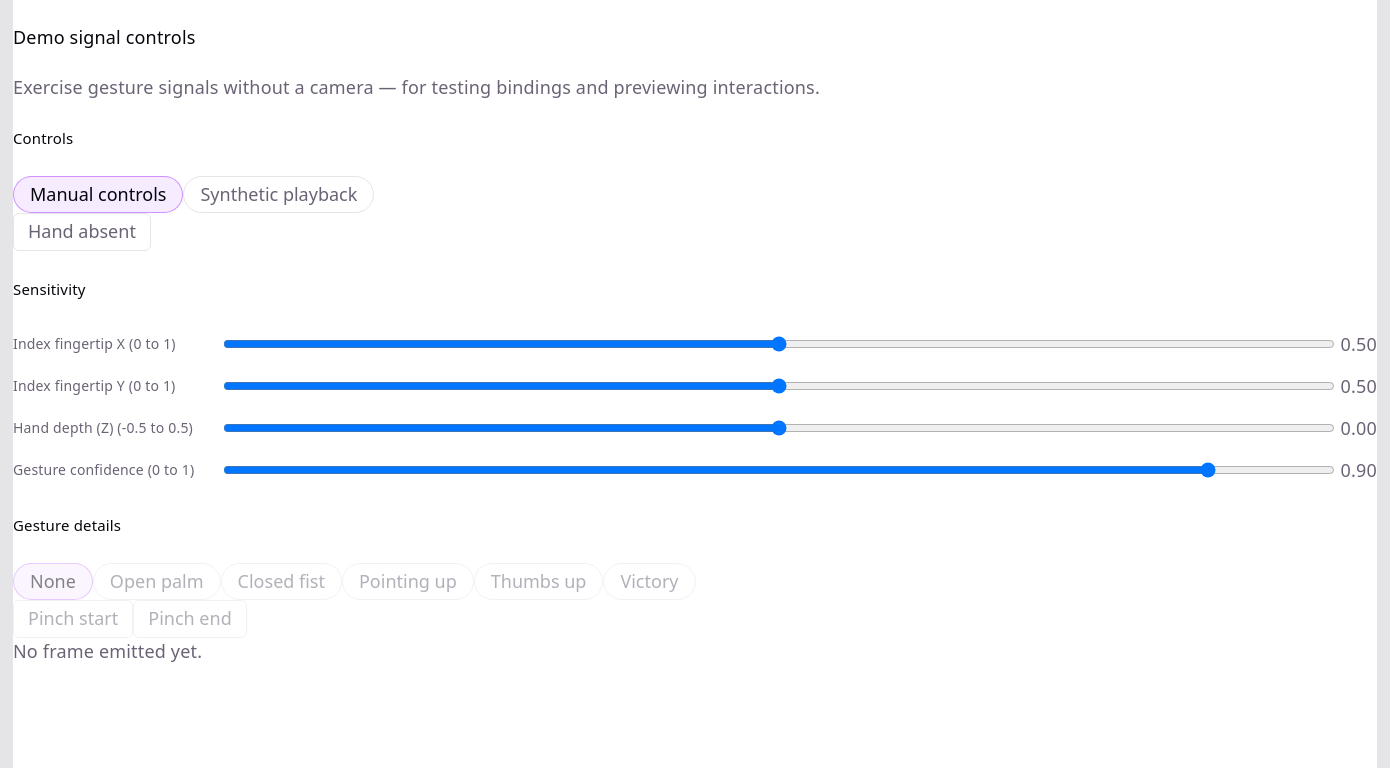
it: DemoControlsPanel › switching to playback mode hides manual controls and shows the playback progress
Click the radio button labelled "Synthetic playback".
click(279, 195)  # box [184,176,374,213]
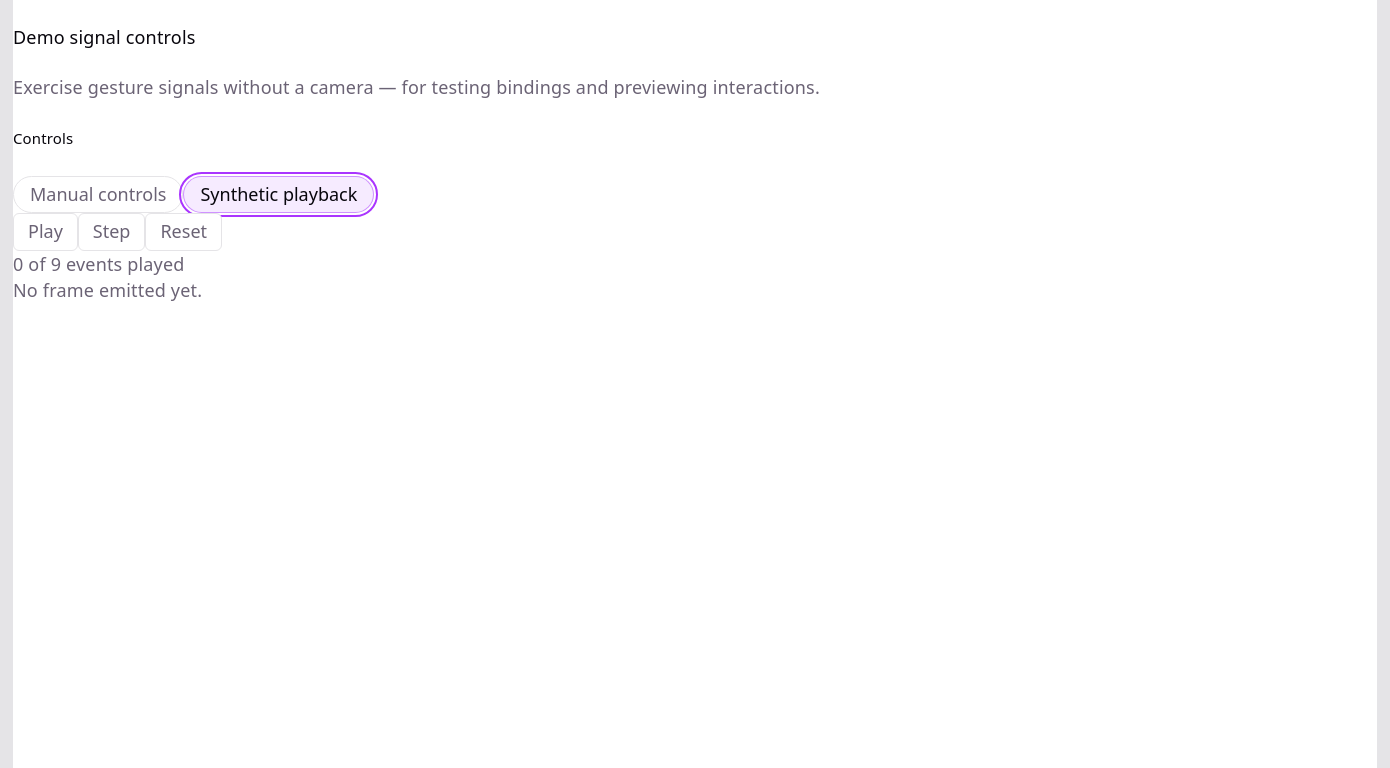
Expected: the element with test id "demo-manual-controls" is gone
Expected: the text "0 of 9 events played" is shown, [13,252,185,276]
